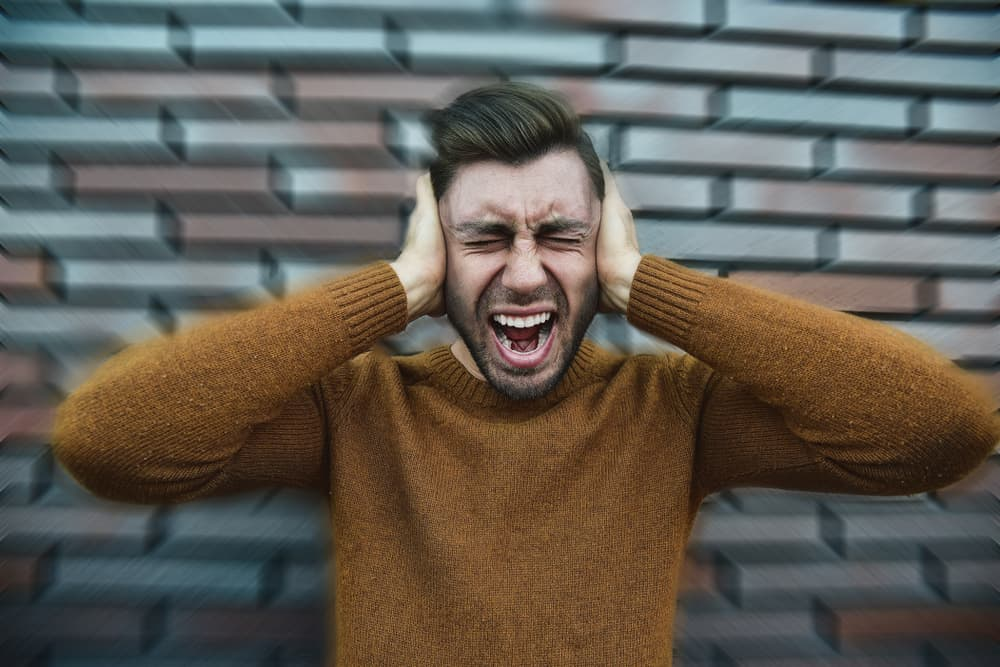human: (48, 81, 1000, 667)
